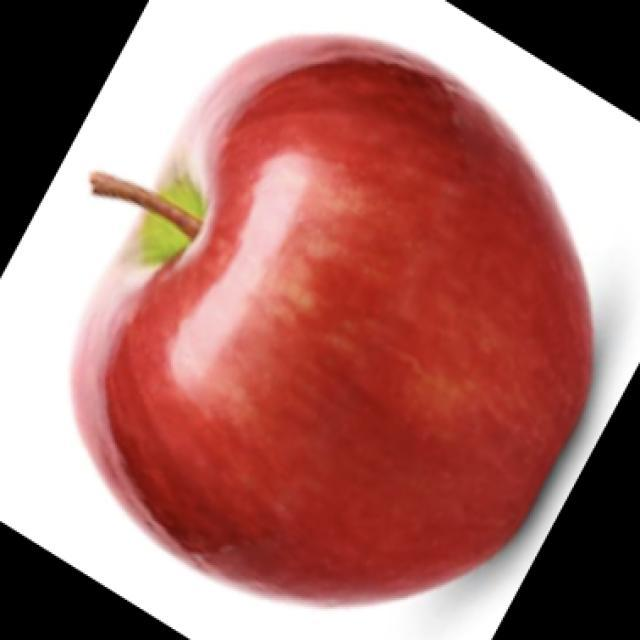Apple: (69, 32, 595, 607)
